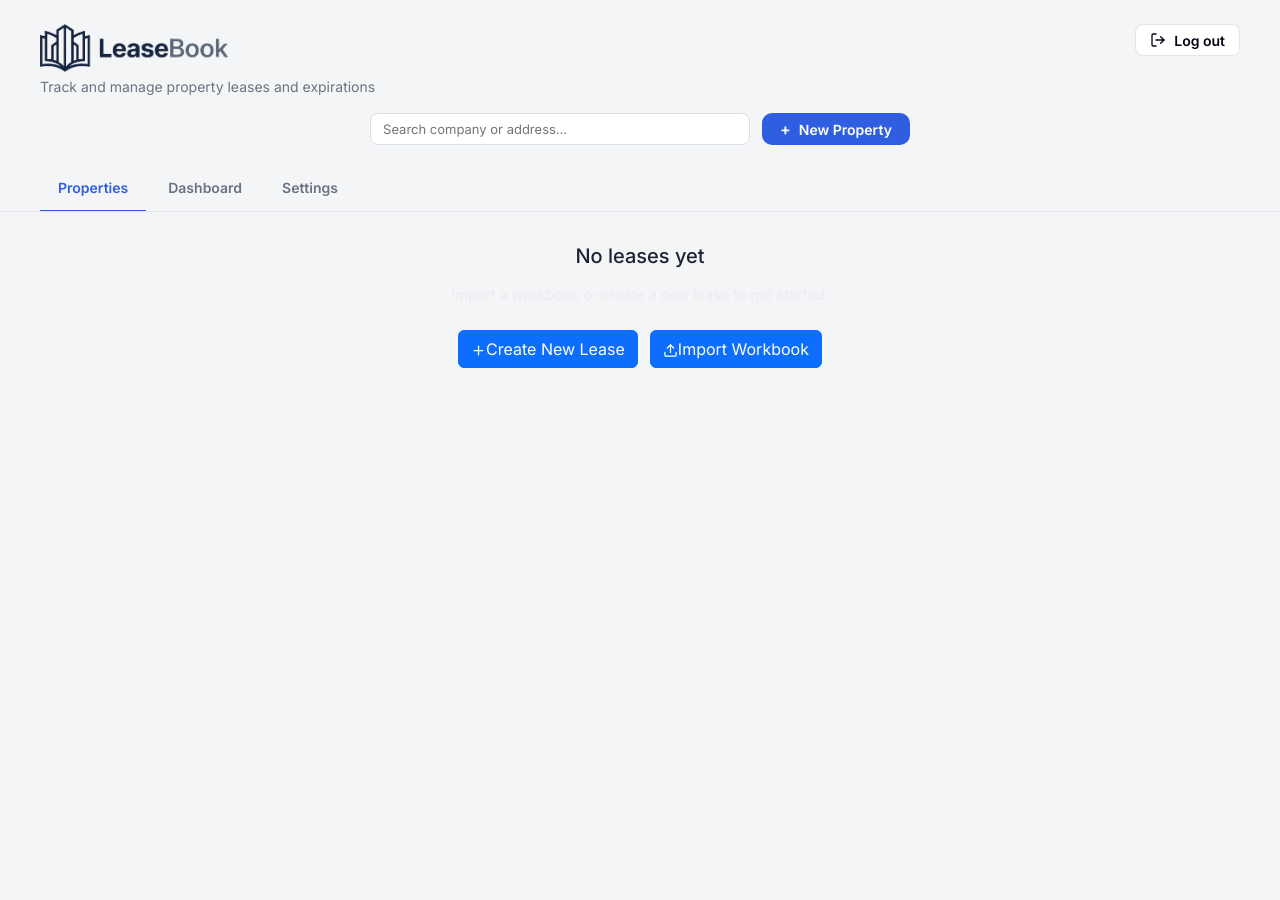
App auth flow › does not offer password removal while passkeys are enabled
This screenshot has width=1280, height=900.
What coordinates should you click on to do the following:
click the button "Settings"
I would click on:
 (310, 188)
Its box is [264,165,356,212].
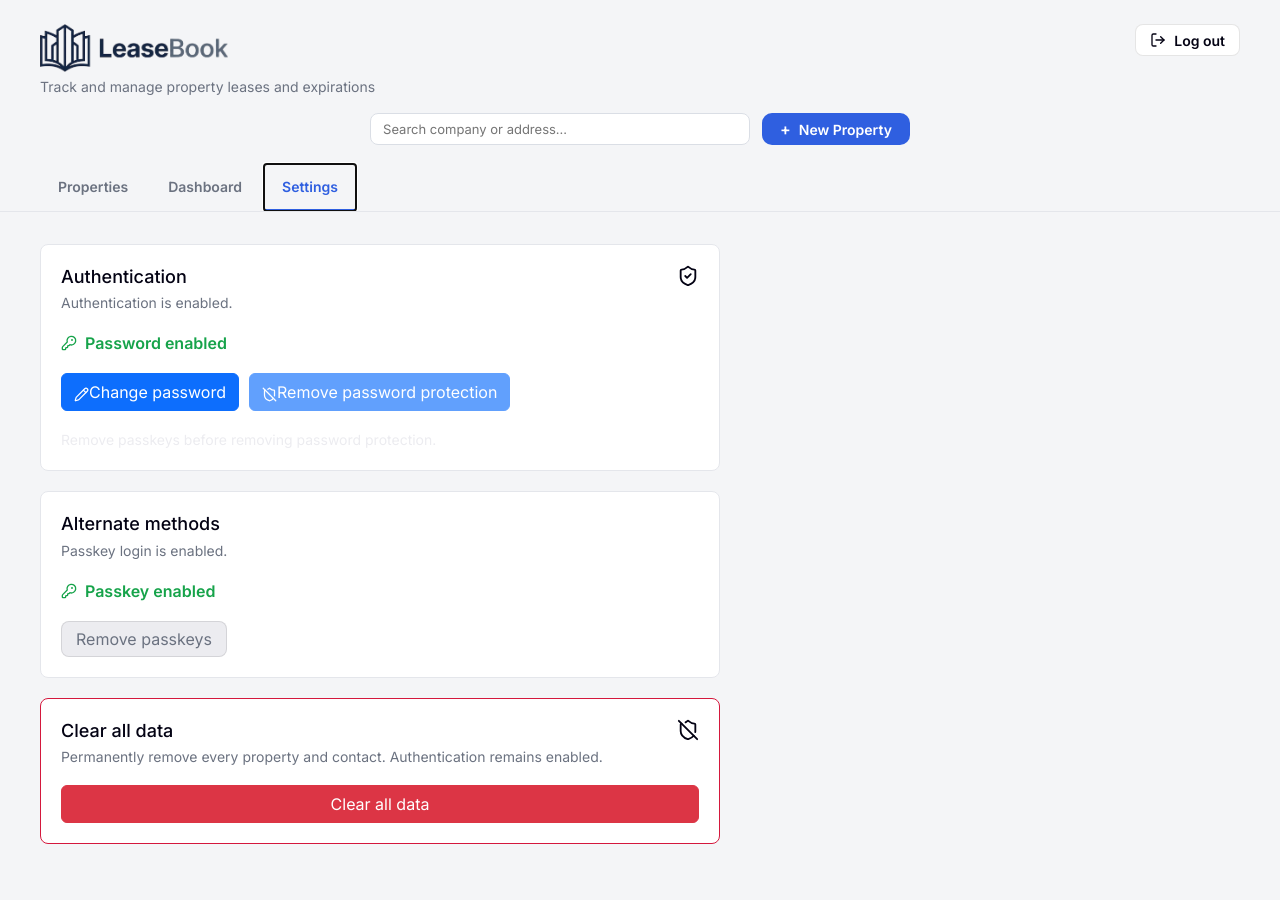
Expected: the button "Remove password protection" is disabled, [249,373,510,411]
